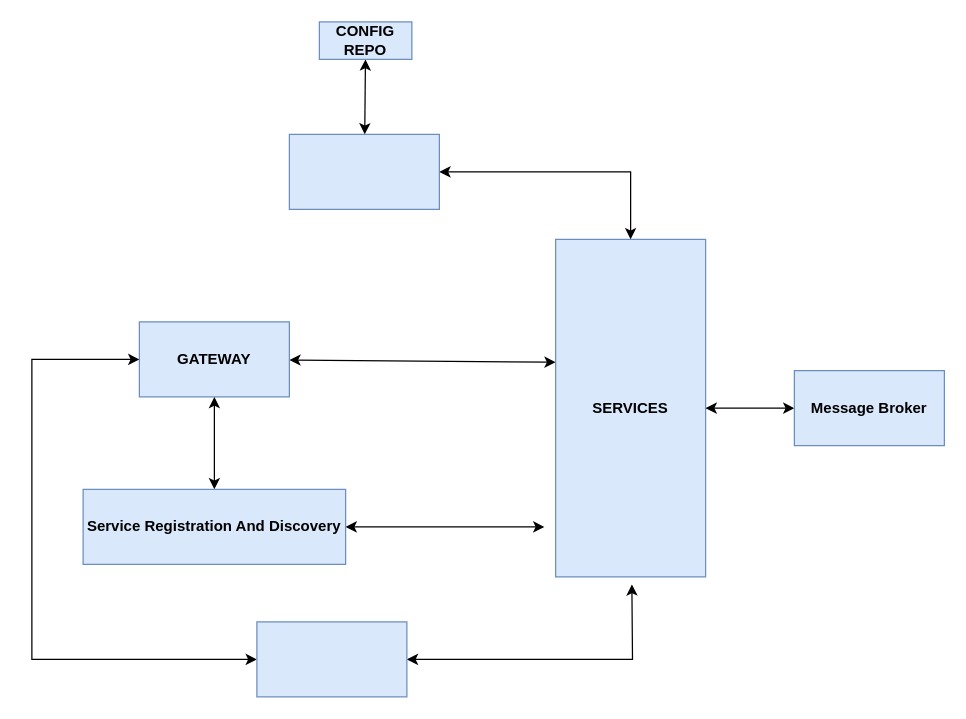
Some shapes in this 966 by 719 pixel diagram are drawn without their labels. Each missing label, with the box of its shape:
CONFIG SERVER: (288, 133, 439, 209)
Distributed Tracing (Zipkin): (256, 621, 407, 697)
